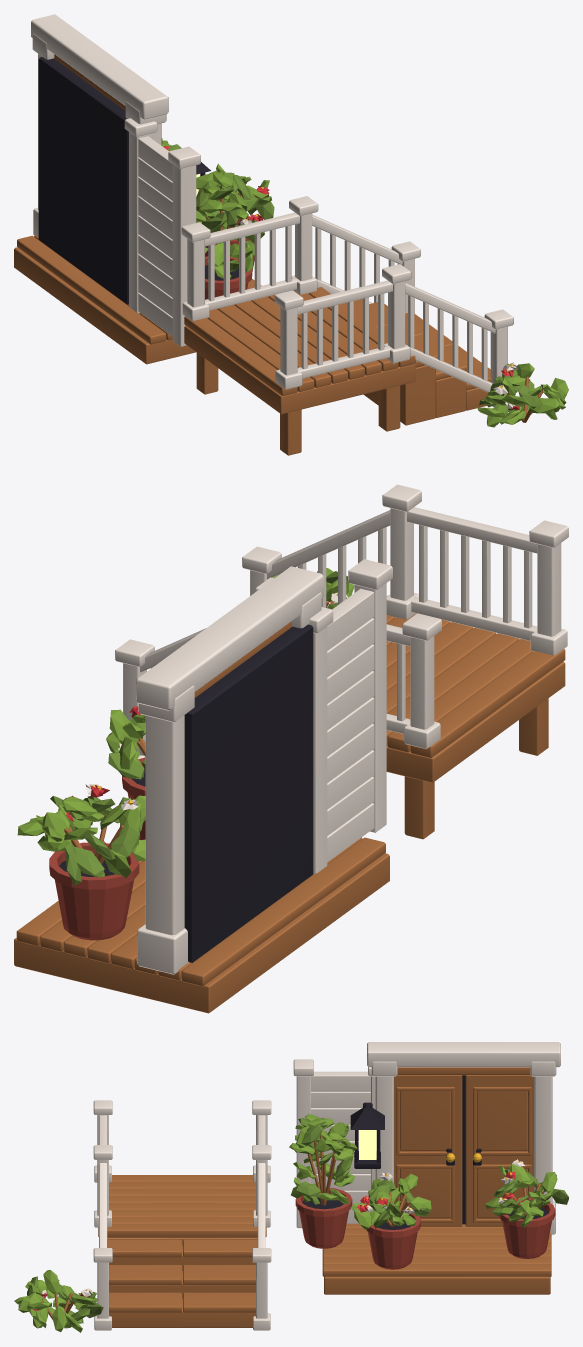
The model's file is kit.porch-stairs.glb.
3 views of the same model, one above another, from view 1: azimuth 30°, elevation 25°; view 2: azimuth 150°, elevation 25°; view 3: azimuth 270°, elevation 25° (orthographic). The views are drawn at different scales.
Size of the model in its own units: 3.16 by 2.78 by 6.86.
